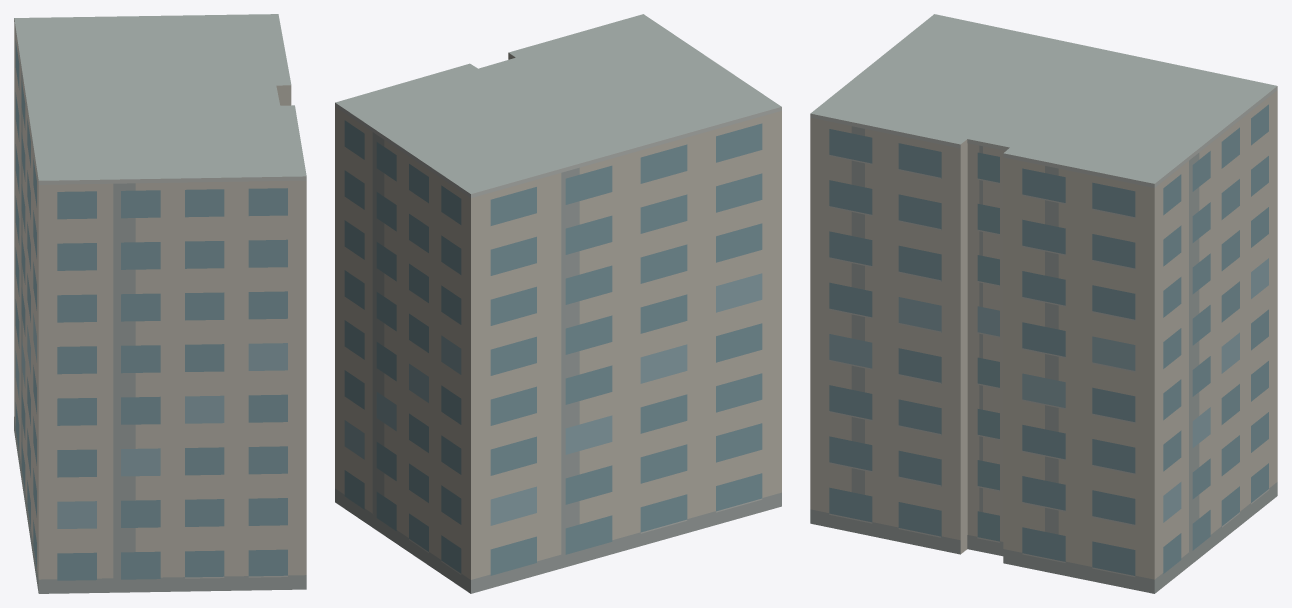
File: survey-upis-32996770.glb
The picture shows the model from 3 angles, left to right: view 1: azimuth 30°, elevation 25°; view 2: azimuth 150°, elevation 25°; view 3: azimuth 270°, elevation 25°; orthographic projection. The views are drawn at different scales.
Visible parts, largest first — view 1: survey-upis-32996770.tmp; view 2: survey-upis-32996770.tmp; view 3: survey-upis-32996770.tmp.
Boxes of the visible parts, x1,y1,x2,y2 form: survey-upis-32996770.tmp: [14, 14, 306, 593]; survey-upis-32996770.tmp: [335, 14, 781, 593]; survey-upis-32996770.tmp: [810, 14, 1277, 593].
Bounding box in the file's own units: 21.69 × 24.4 × 25.21.
